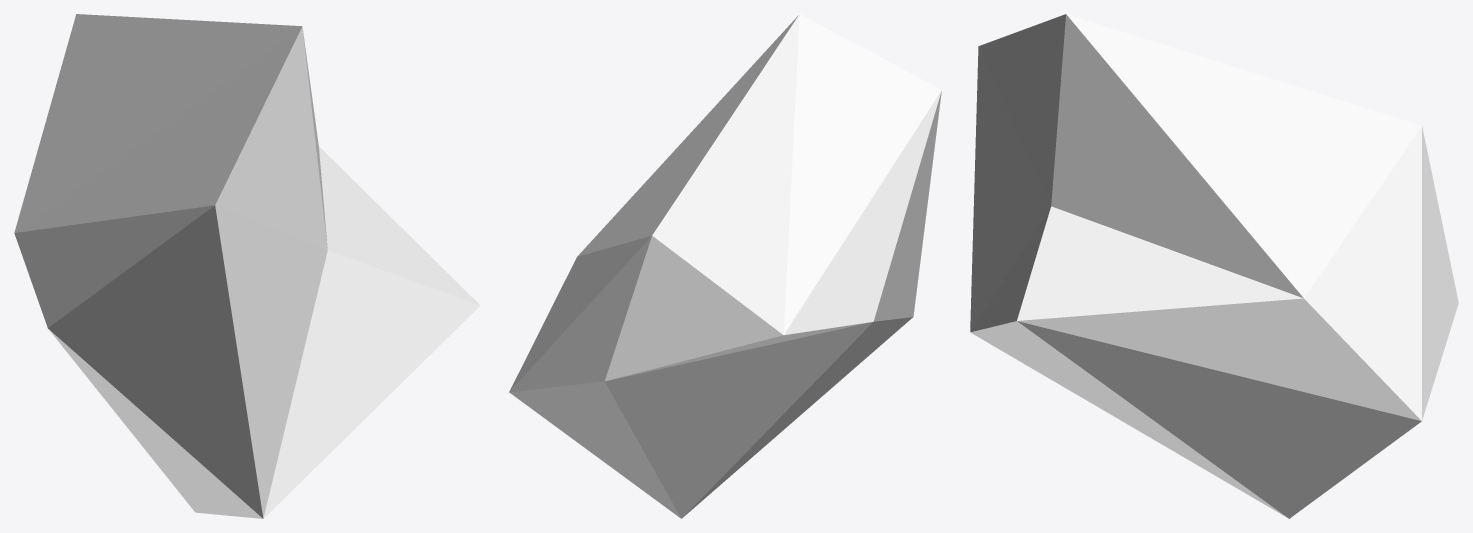
The model's file is PaperBall_A.fbx.
3 renders of one model, left to right at view 1: azimuth 30°, elevation 25°; view 2: azimuth 150°, elevation 25°; view 3: azimuth 270°, elevation 25°, orthographic. The views are drawn at different scales.
Visible parts, largest first — view 1: Icosphere.005; view 2: Icosphere.005; view 3: Icosphere.005.
Boxes of the visible parts, bbox=[...] form: Icosphere.005: bbox=[14, 14, 480, 518]; Icosphere.005: bbox=[509, 14, 941, 518]; Icosphere.005: bbox=[970, 14, 1458, 518].
Size of the model in its own units: 11.14 by 17.61 by 15.78.
